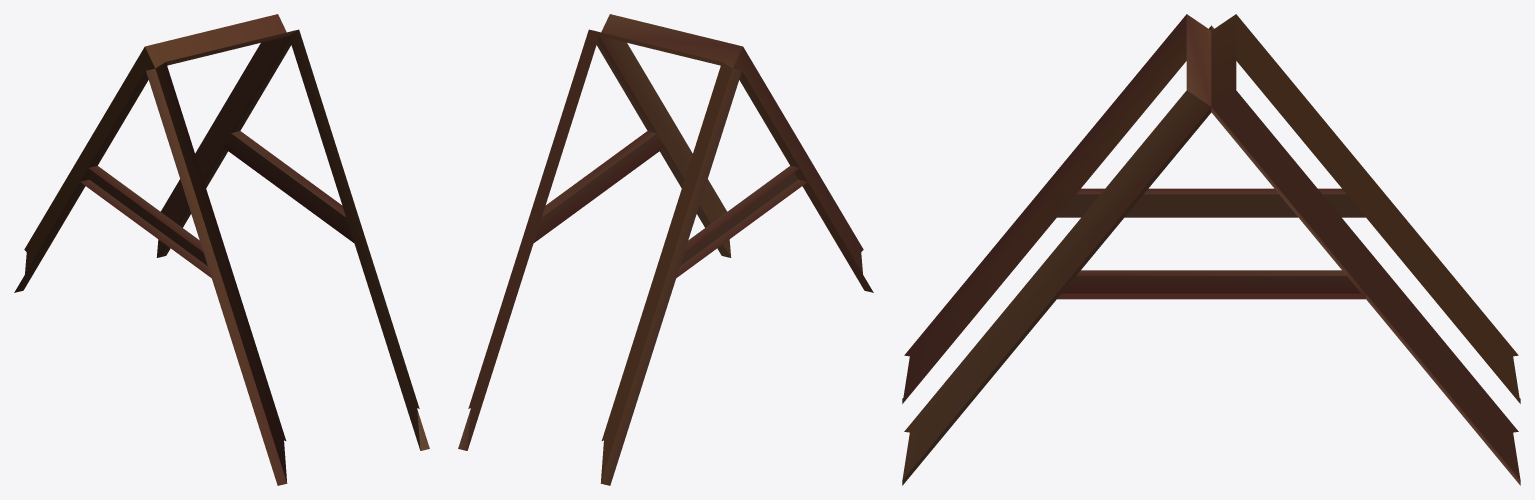
Rendered from Ceiling_HomeA-RoofA-2m.fbx.
3 renders of one model, left to right at view 1: azimuth 30°, elevation 25°; view 2: azimuth 150°, elevation 25°; view 3: azimuth 270°, elevation 25°, orthographic. The views are drawn at different scales.
Parts seen in each view (by area): view 1: Ceiling_HomeA-RoofA-2m; view 2: Ceiling_HomeA-RoofA-2m; view 3: Ceiling_HomeA-RoofA-2m.
Boxes of the visible parts, x1,y1,x2,y2 form: Ceiling_HomeA-RoofA-2m: [14, 14, 429, 485]; Ceiling_HomeA-RoofA-2m: [458, 14, 873, 485]; Ceiling_HomeA-RoofA-2m: [902, 14, 1520, 485].
Size of the model in its own units: 200 by 418 by 600.
